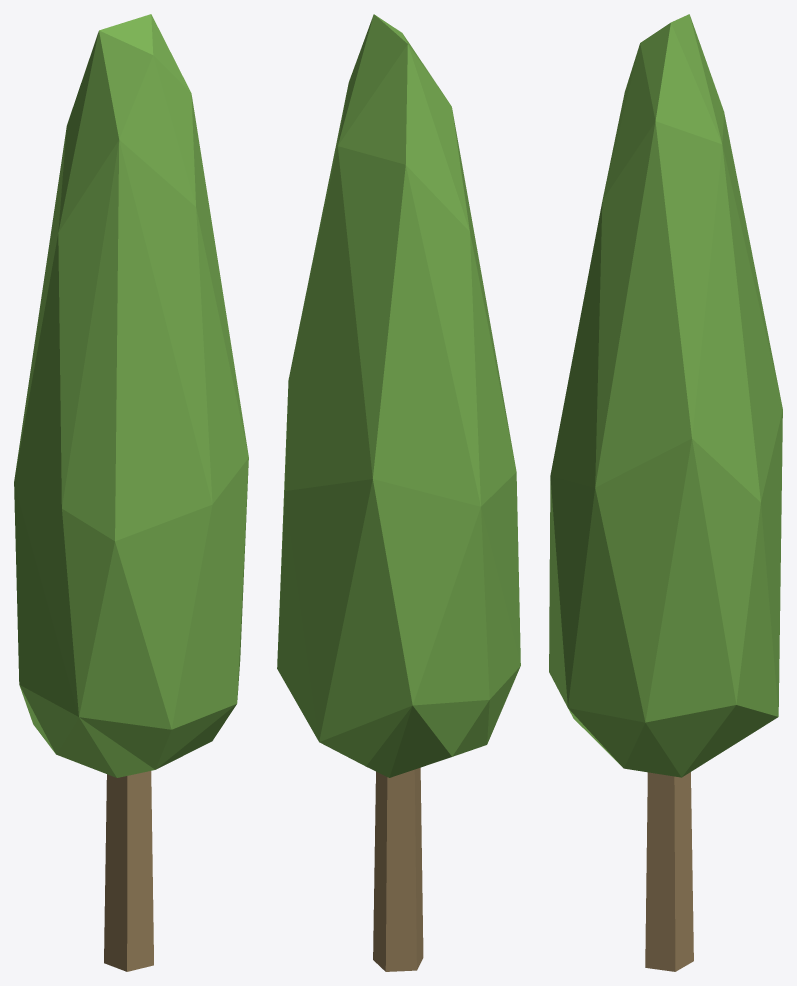
Rendered from Thuja_Tree_m_BT_01.fbx.
3 views of the same model, side by side, from view 1: azimuth 30°, elevation 25°; view 2: azimuth 150°, elevation 25°; view 3: azimuth 270°, elevation 25° (orthographic).
Visible parts, largest first — view 1: Thuja_Tree_m_BT_01; view 2: Thuja_Tree_m_BT_01; view 3: Thuja_Tree_m_BT_01.
Boxes of the visible parts, x1,y1,x2,y2 form: Thuja_Tree_m_BT_01: (14,14,248,971); Thuja_Tree_m_BT_01: (277,14,520,971); Thuja_Tree_m_BT_01: (549,14,782,971).
Size of the model in its own units: 96.9 by 435 by 97.04.
